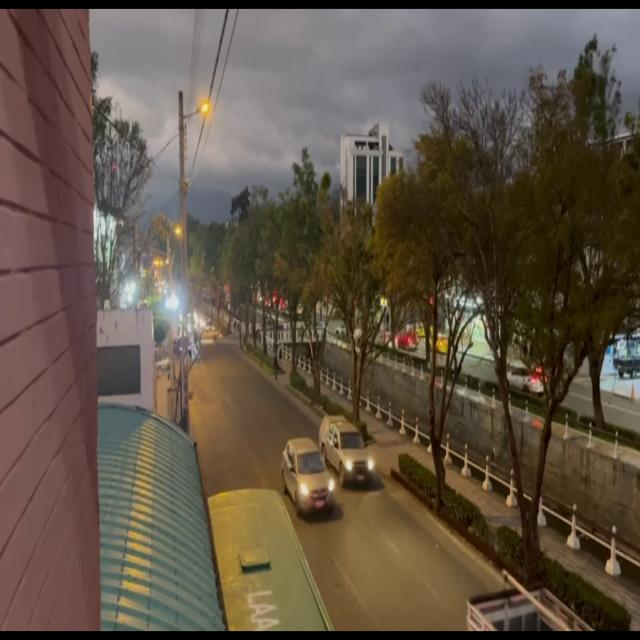CMT: (324, 415, 376, 483)
SUV: (282, 444, 324, 516)
